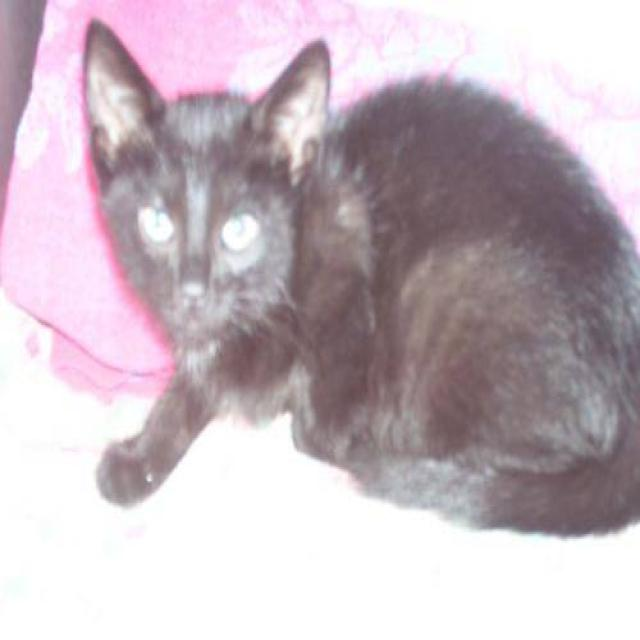cat: (81, 15, 638, 539)
